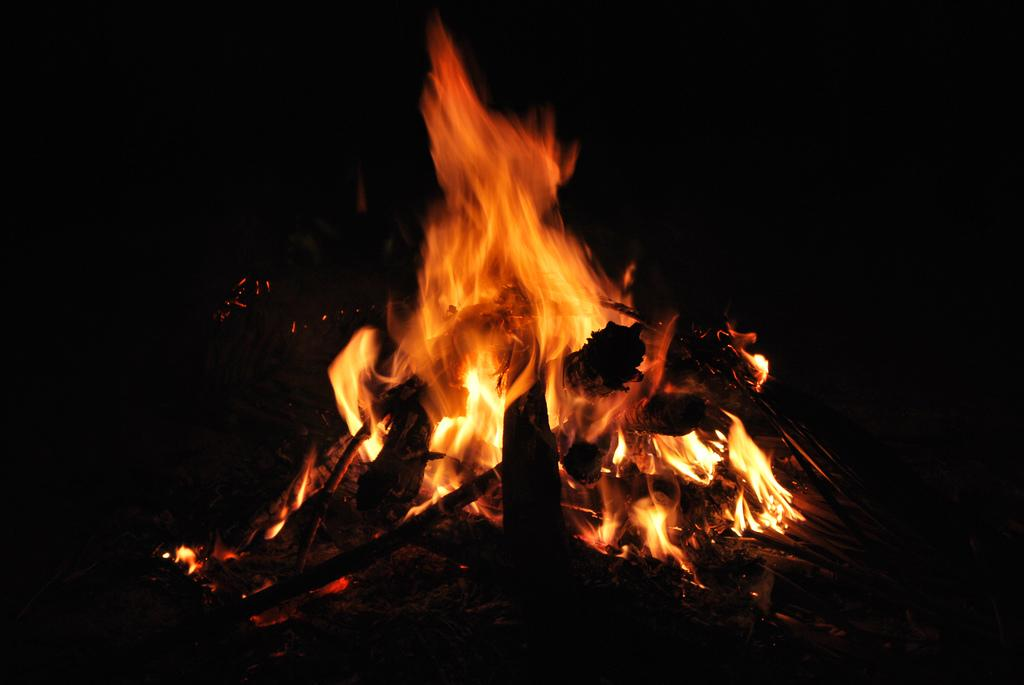fire: (433, 232, 592, 347)
